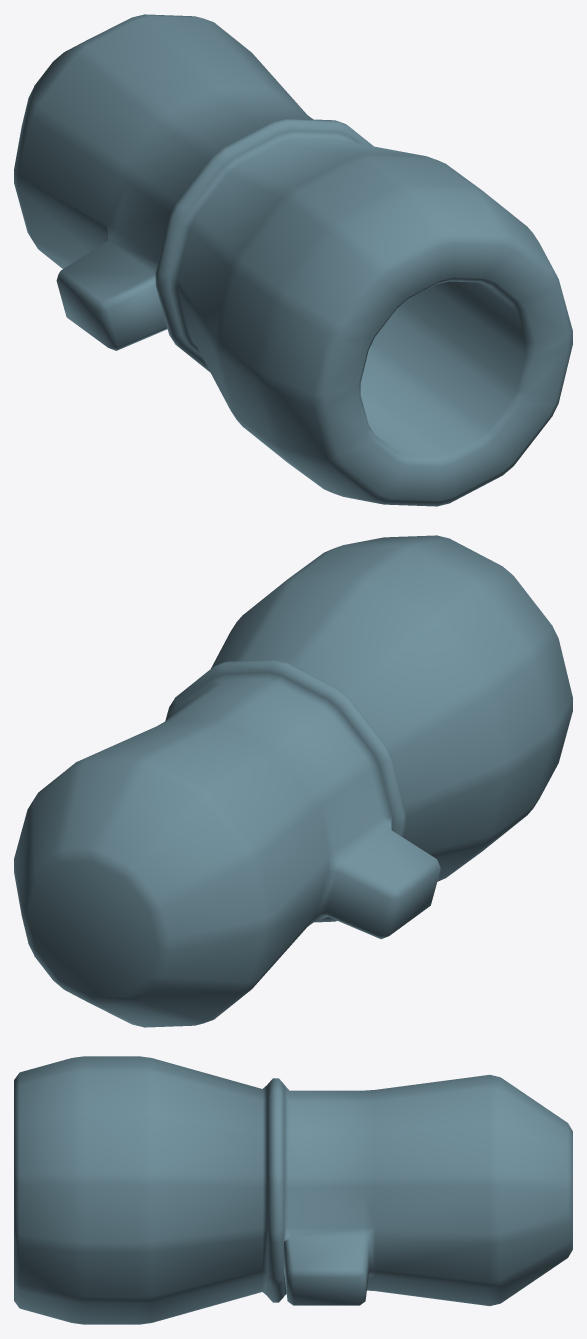
Rendered from weapon.001.glb.
3 views of the same model, one above another, from view 1: azimuth 30°, elevation 25°; view 2: azimuth 150°, elevation 25°; view 3: azimuth 270°, elevation 25° (orthographic). The views are drawn at different scales.
Visible parts, largest first — view 1: weapon.001; view 2: weapon.001; view 3: weapon.001.
Part boxes in pixels (x1=…): weapon.001: x1=14, y1=14, x2=572, y2=506; weapon.001: x1=14, y1=535, x2=572, y2=1027; weapon.001: x1=14, y1=1056, x2=572, y2=1324.
Bounding box in the file's own units: 2.65 × 2.27 × 4.74.
